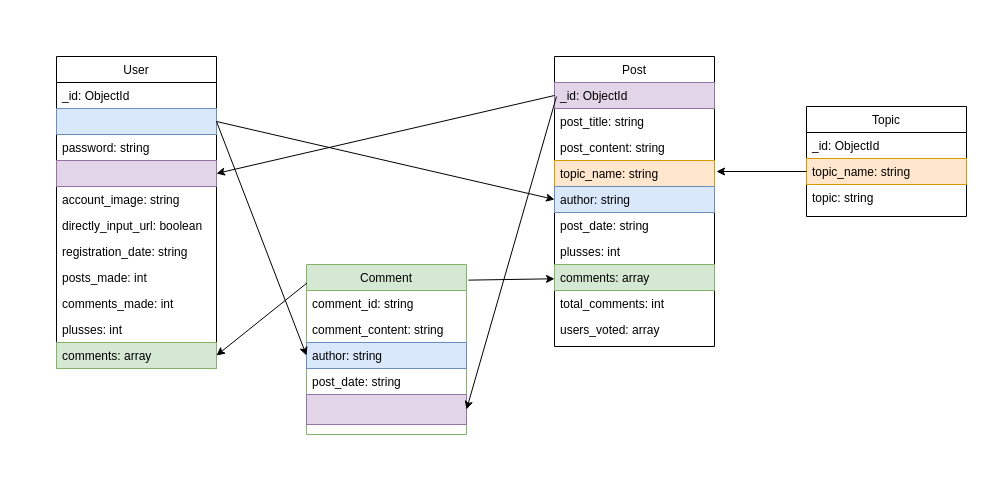
The diagram is 1003 pixels wide and 503 high, and some of its shapes have lost their labels. The box of each missing label's shape, as (x1, y1, x2, y2) in pixels:
attached_post: string: (306, 394, 466, 424)
username: string: (56, 108, 216, 134)
voted: array: (56, 160, 216, 186)
